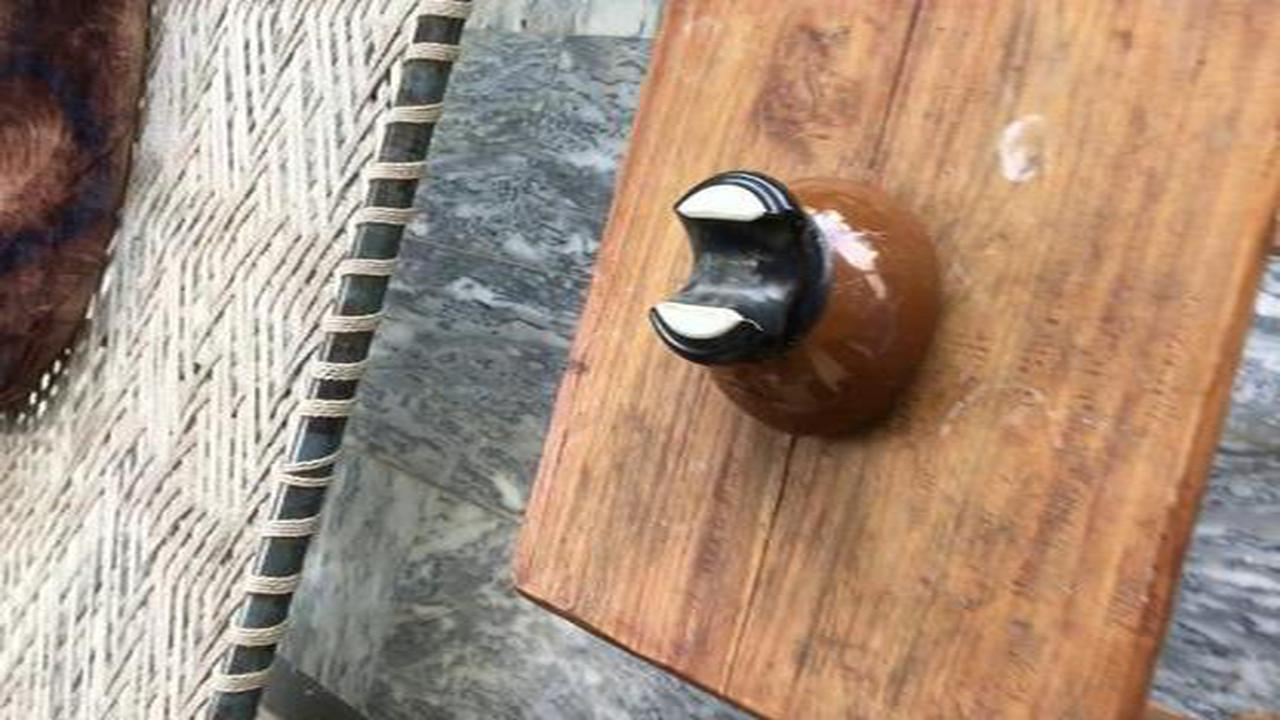insulator_pin: (625, 156, 973, 459)
